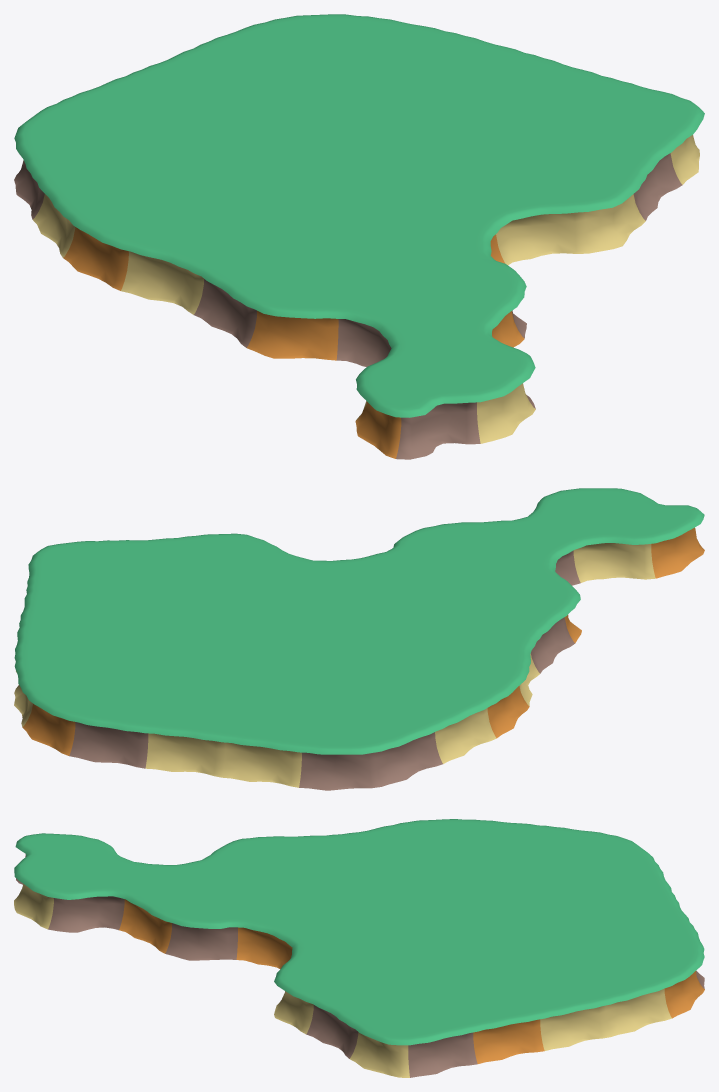
The model's file is Mod_A1_LM1.fbx.
3 views of the same model, one above another, from view 1: azimuth 30°, elevation 25°; view 2: azimuth 150°, elevation 25°; view 3: azimuth 270°, elevation 25° (orthographic). The views are drawn at different scales.
Visible parts, largest first — view 1: Mod_A1_Lm1; view 2: Mod_A1_Lm1; view 3: Mod_A1_Lm1.
Boxes of the visible parts, box(x1,y1,x2,y2) form: Mod_A1_Lm1: box(14, 14, 704, 459); Mod_A1_Lm1: box(14, 488, 704, 790); Mod_A1_Lm1: box(14, 819, 704, 1077).
Bounding box in the file's own units: 5879 × 436 × 7611.
